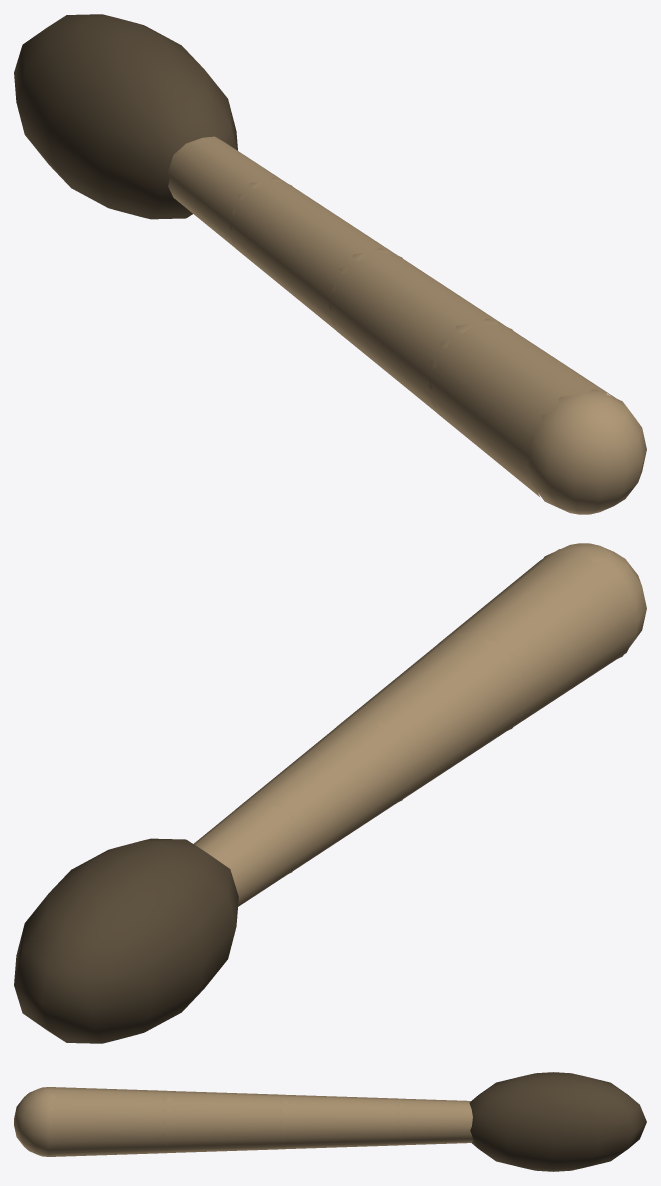
Rendered from camel_tail.glb.
The picture shows the model from 3 angles, top to bottom: view 1: azimuth 30°, elevation 25°; view 2: azimuth 150°, elevation 25°; view 3: azimuth 270°, elevation 25°; orthographic projection. The views are drawn at different scales.
Visible parts, largest first — view 1: camel_tail_seg04, camel_tail_seg01, camel_tail_seg02, camel_tail_seg03; view 2: camel_tail_seg04, camel_tail_seg01, camel_tail_seg02, camel_tail_seg03; view 3: camel_tail_seg04, camel_tail_seg01, camel_tail_seg02, camel_tail_seg03.
Part boxes in pixels (x1,y1,x2,y2): camel_tail_seg04: (14,14,292,247); camel_tail_seg01: (428,321,646,514); camel_tail_seg02: (328,250,513,412); camel_tail_seg03: (228,179,402,329); camel_tail_seg04: (14,799,303,1043); camel_tail_seg01: (438,543,646,726); camel_tail_seg02: (337,630,527,798); camel_tail_seg03: (236,714,415,870); camel_tail_seg04: (397,1072,646,1171); camel_tail_seg01: (14,1087,167,1156); camel_tail_seg02: (162,1091,284,1152); camel_tail_seg03: (279,1094,401,1149).
Bounding box in the file's own units: 0.1308 × 0.1308 × 0.8295.
1 material, 1 textured.
